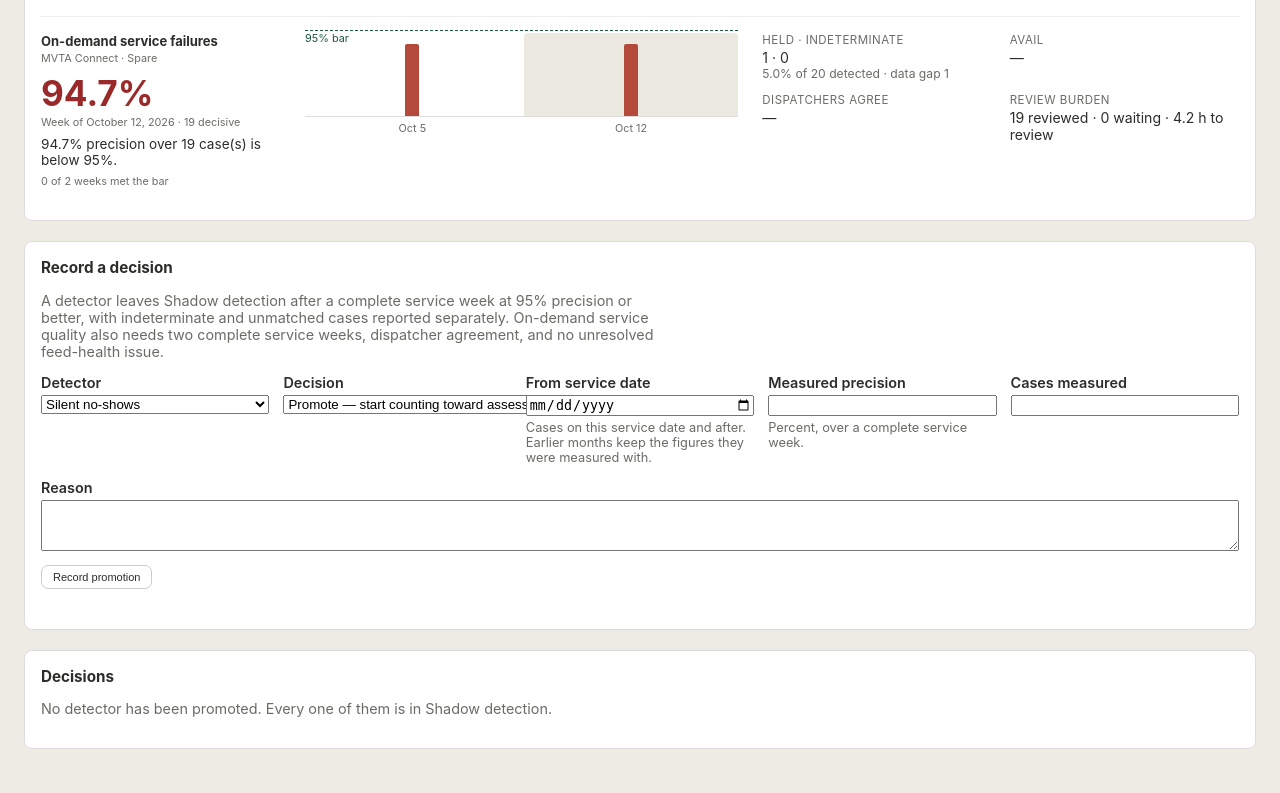
Missed-trip detector promotion › asks the on-demand detector for its extra conditions before promoting it
(page scrolled)
Step 1. Select "On-demand service failures" in the dropdown labelled "Detector" → (155, 404), box [41,395,269,414]
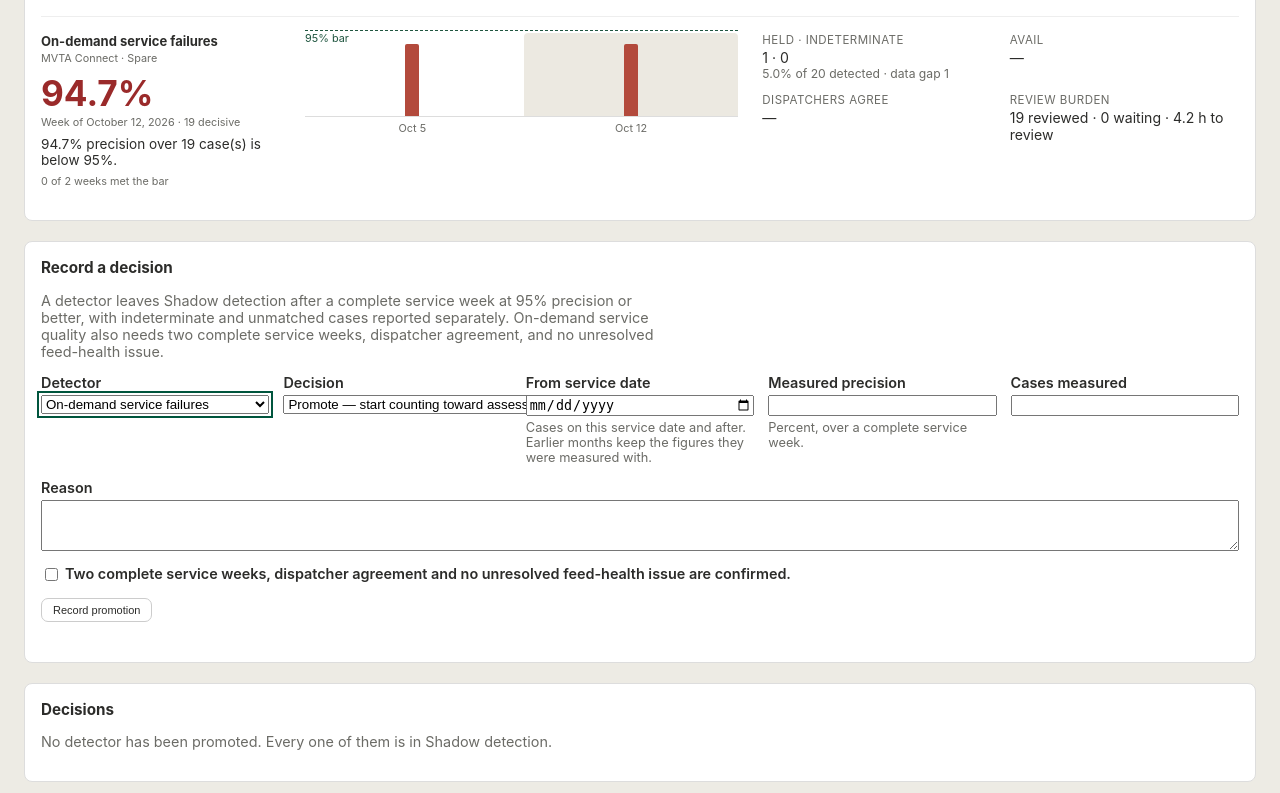
Step 2. Type "2026-10-01" into the date field labelled "From service date" → (640, 406), box [526,395,754,416]
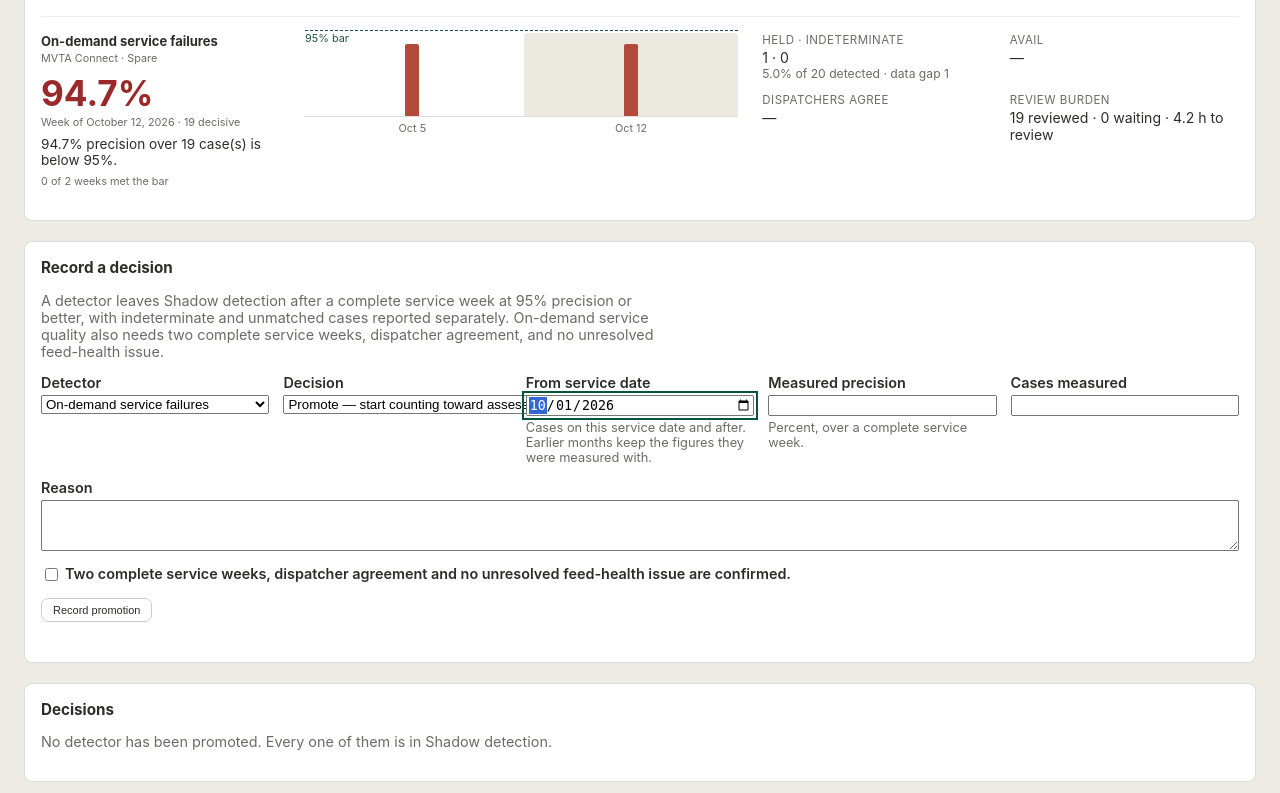
Step 3. Type "99" into the number field labelled "Measured precision" → (882, 405), box [768,395,997,416]
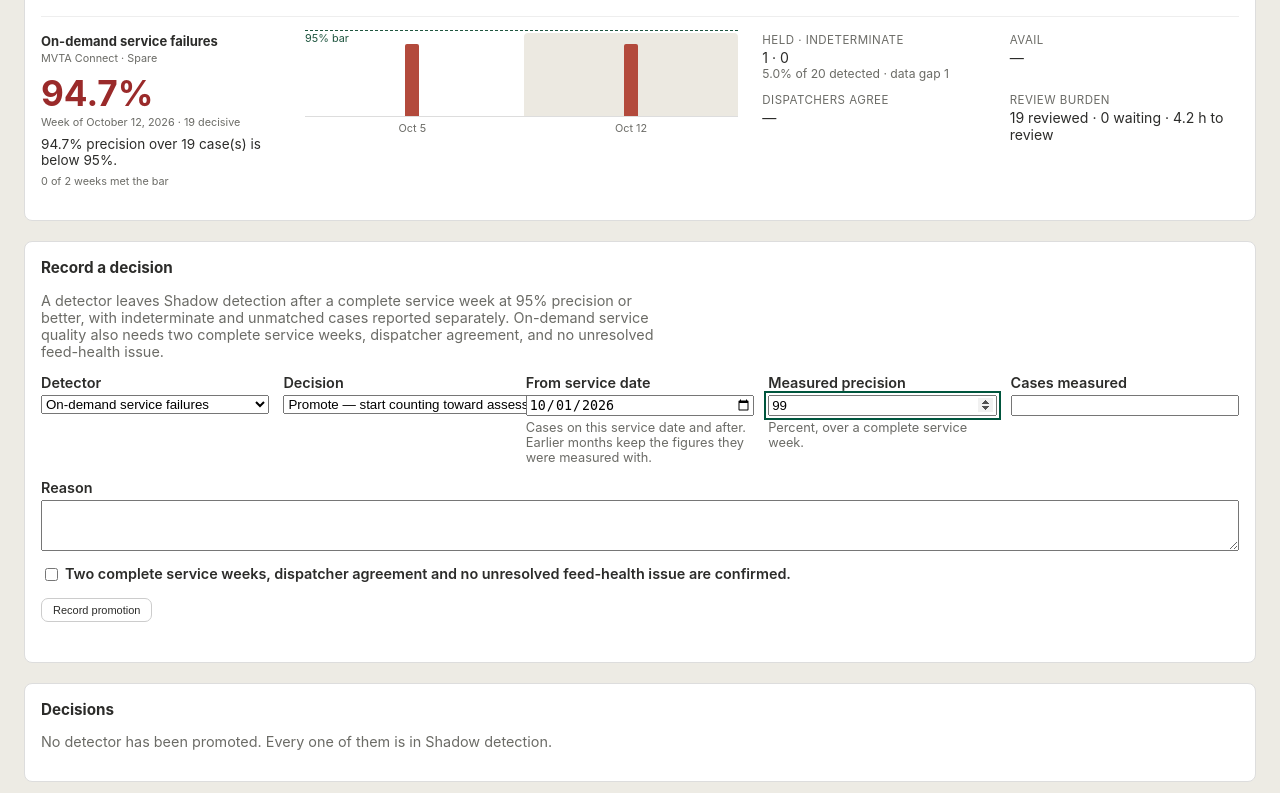
Step 4. Type "80" into the number field labelled "Cases measured" → (1125, 405), box [1011,395,1239,416]
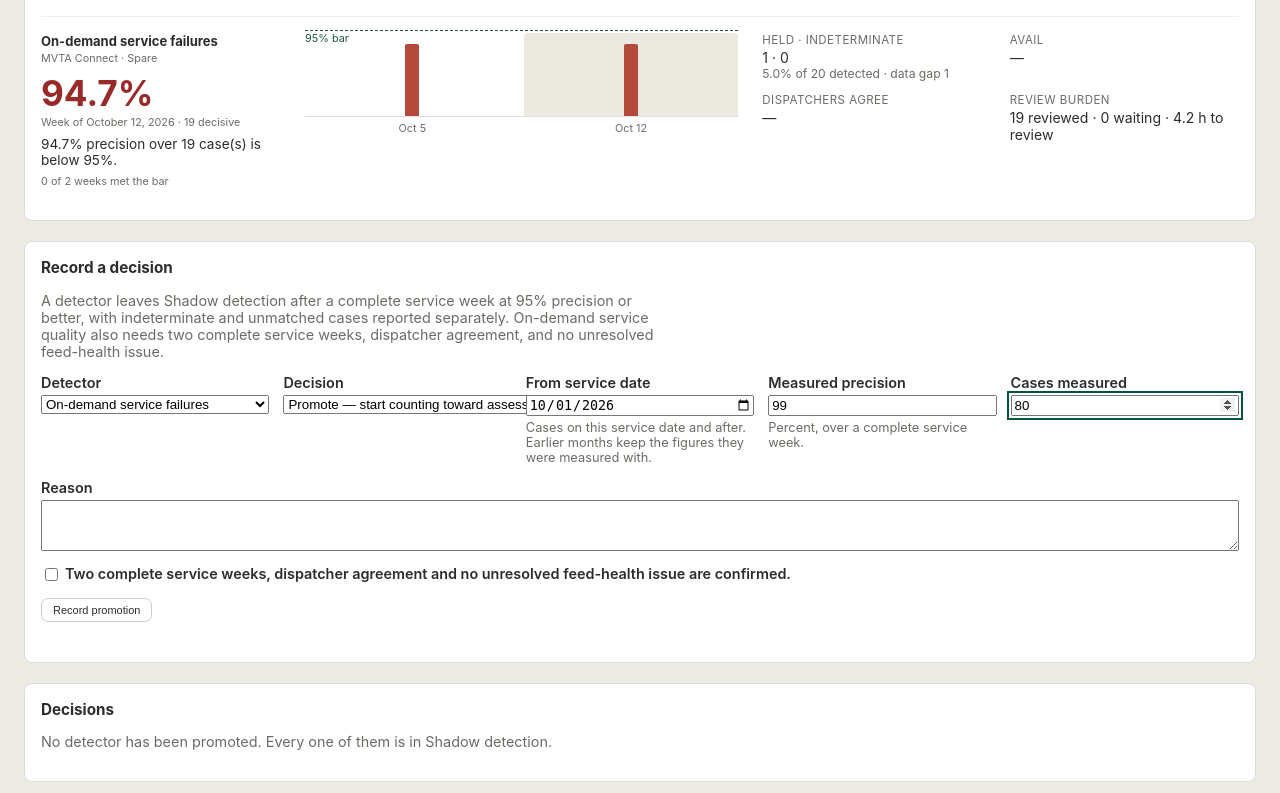
Step 5. Type "two clean weeks" into the text box labelled "Reason" → (640, 526), box [41,500,1239,551]
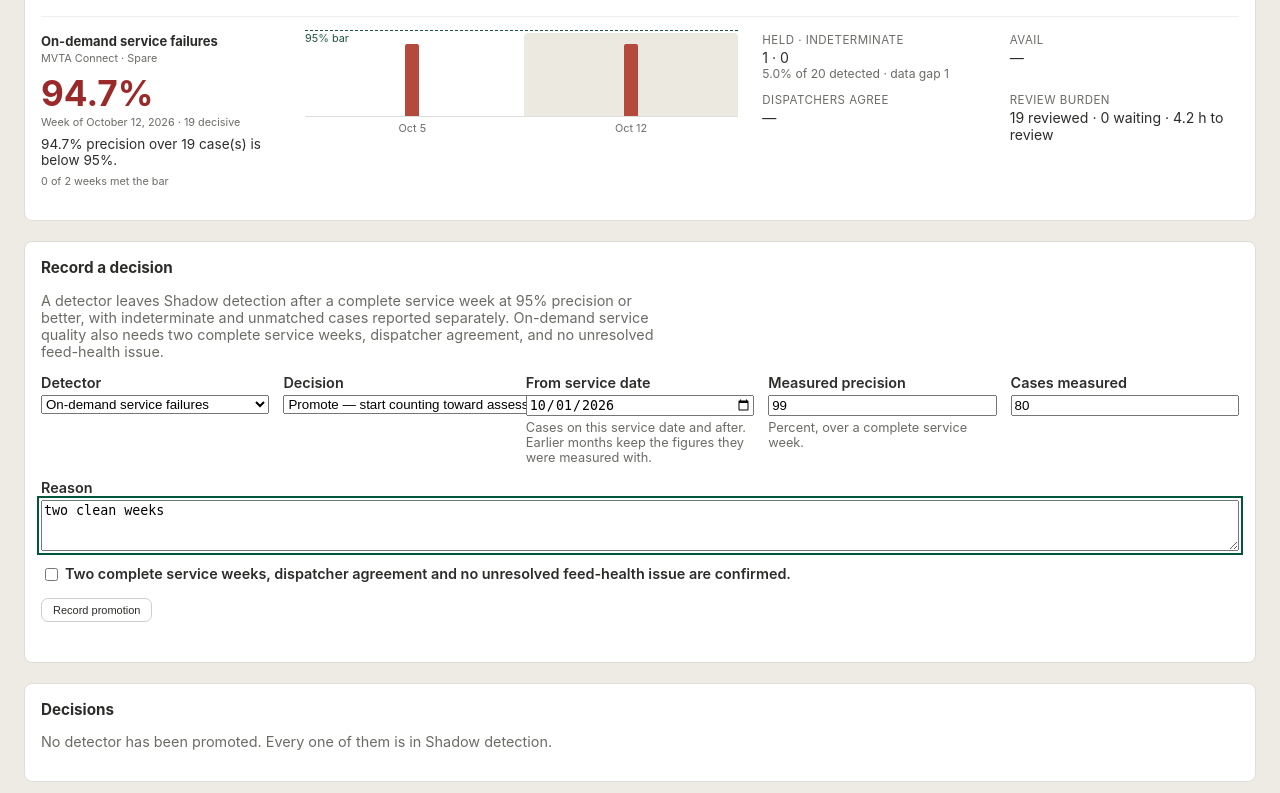
Step 6. Click the button "Record promotion" → (97, 610), box [41,598,152,622]
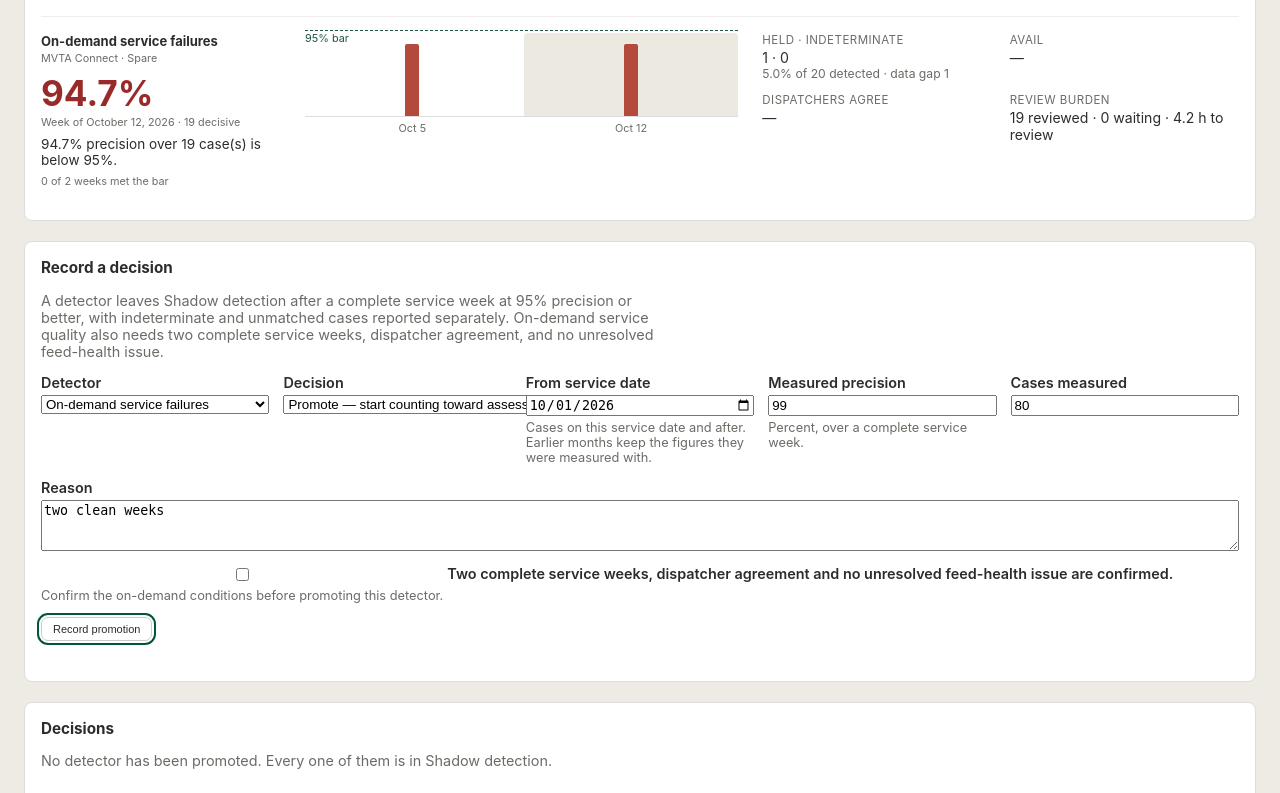
Expected: the text "Confirm the on-demand conditions" is shown, [41,588,443,603]
